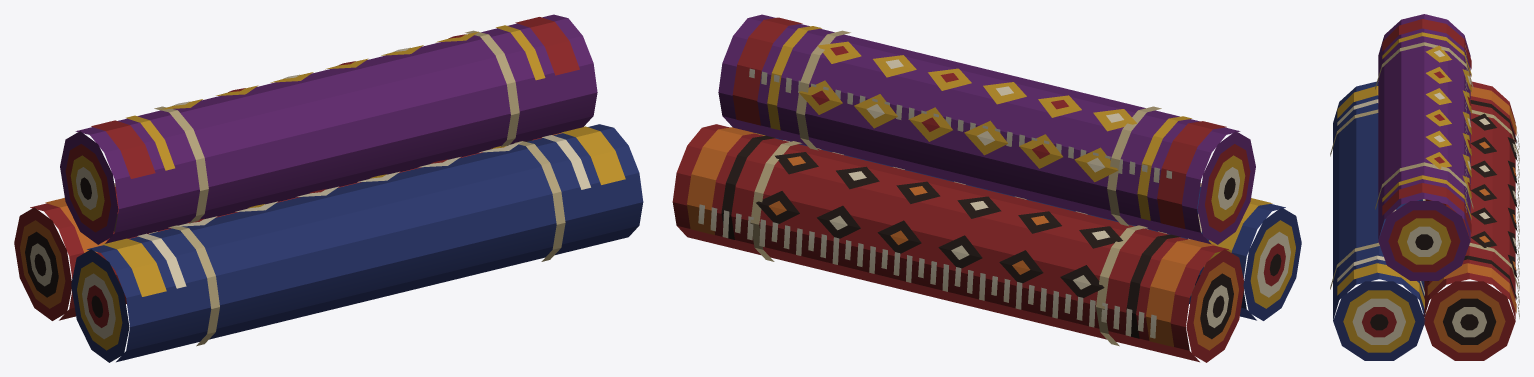
The model's file is rugs_rolled.glb.
3 views of the same model, side by side, from view 1: azimuth 30°, elevation 25°; view 2: azimuth 150°, elevation 25°; view 3: azimuth 270°, elevation 25° (orthographic). The views are drawn at different scales.
Visible parts, largest first — view 1: rugs_rolled; view 2: rugs_rolled; view 3: rugs_rolled.
Boxes of the visible parts, x1,y1,x2,y2 form: rugs_rolled: [14, 14, 643, 362]; rugs_rolled: [672, 14, 1301, 362]; rugs_rolled: [1330, 14, 1519, 360].
Size of the model in its own units: 2.11 by 0.794 by 0.839.
